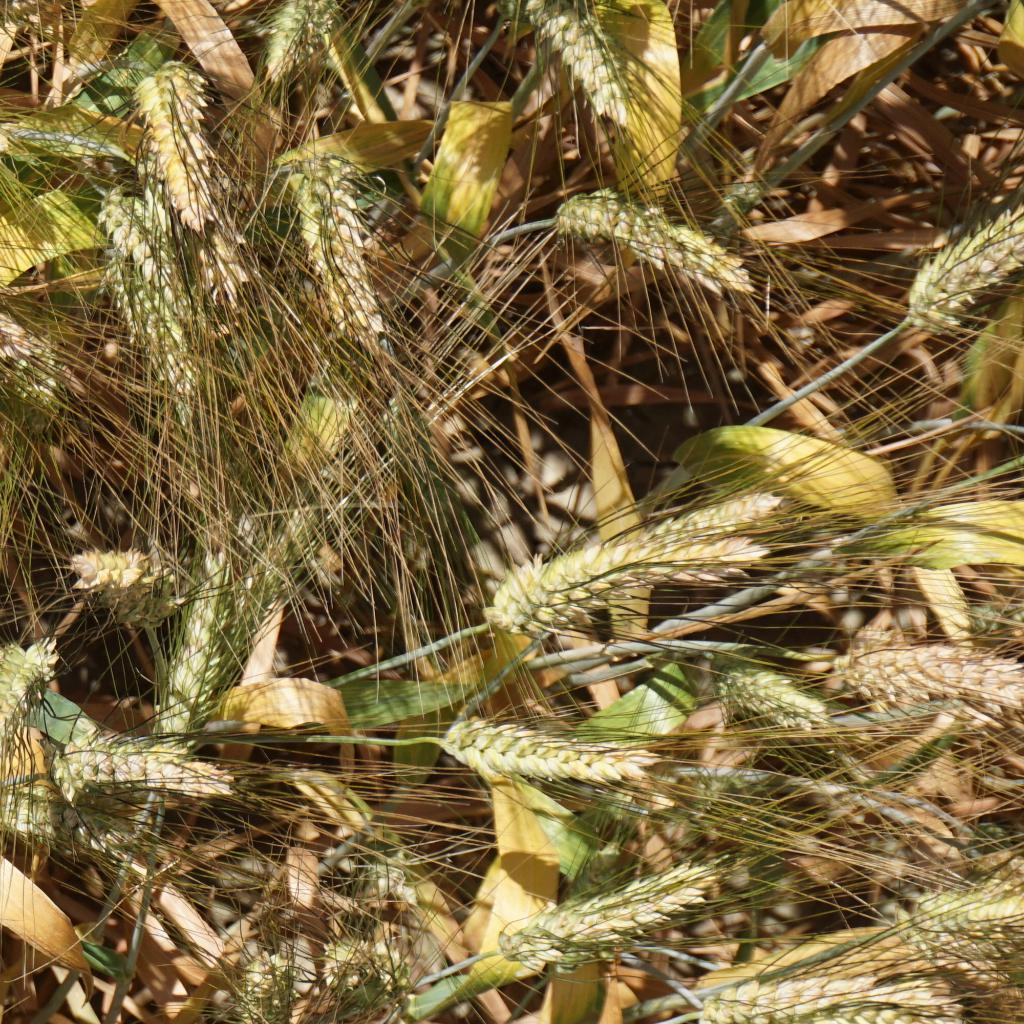0-0: (92, 188, 223, 440), (494, 852, 752, 968), (551, 180, 776, 313), (149, 531, 283, 726), (281, 145, 381, 344), (579, 479, 796, 567), (484, 549, 783, 612), (828, 630, 1024, 726), (446, 702, 653, 791), (896, 201, 1024, 339), (684, 966, 988, 1024), (518, 0, 642, 139), (123, 49, 222, 220), (537, 825, 638, 985), (67, 720, 232, 815), (65, 525, 188, 624), (247, 0, 362, 98), (701, 651, 824, 738), (903, 886, 1024, 962), (342, 823, 416, 947), (314, 939, 411, 1021), (0, 246, 51, 395), (195, 206, 269, 307), (692, 761, 784, 835), (226, 927, 285, 1024), (0, 637, 39, 754), (0, 772, 60, 838), (262, 1001, 375, 1024), (0, 86, 21, 174)
